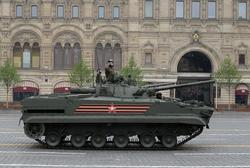bmp: (22, 75, 224, 149)
